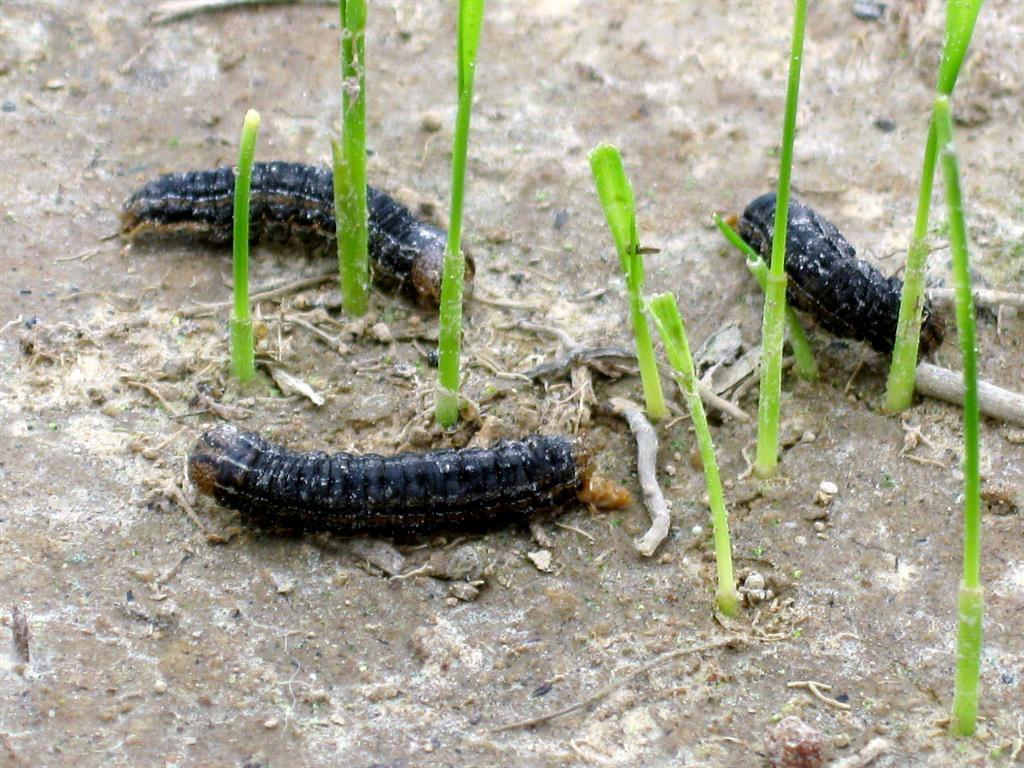caterpillars: (92, 132, 511, 352), (157, 394, 616, 587), (697, 146, 969, 380)
